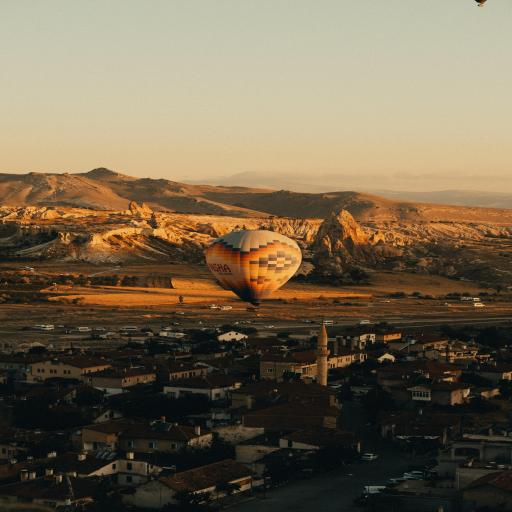hot air ballon: (202, 225, 300, 318)
